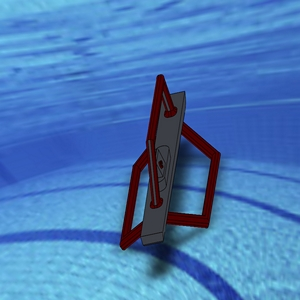submarine: (93, 56, 250, 264)
